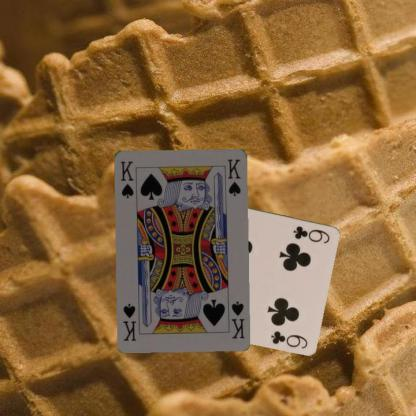6c: (290, 223, 332, 244)
Ks: (228, 298, 246, 340), (118, 158, 134, 200)
